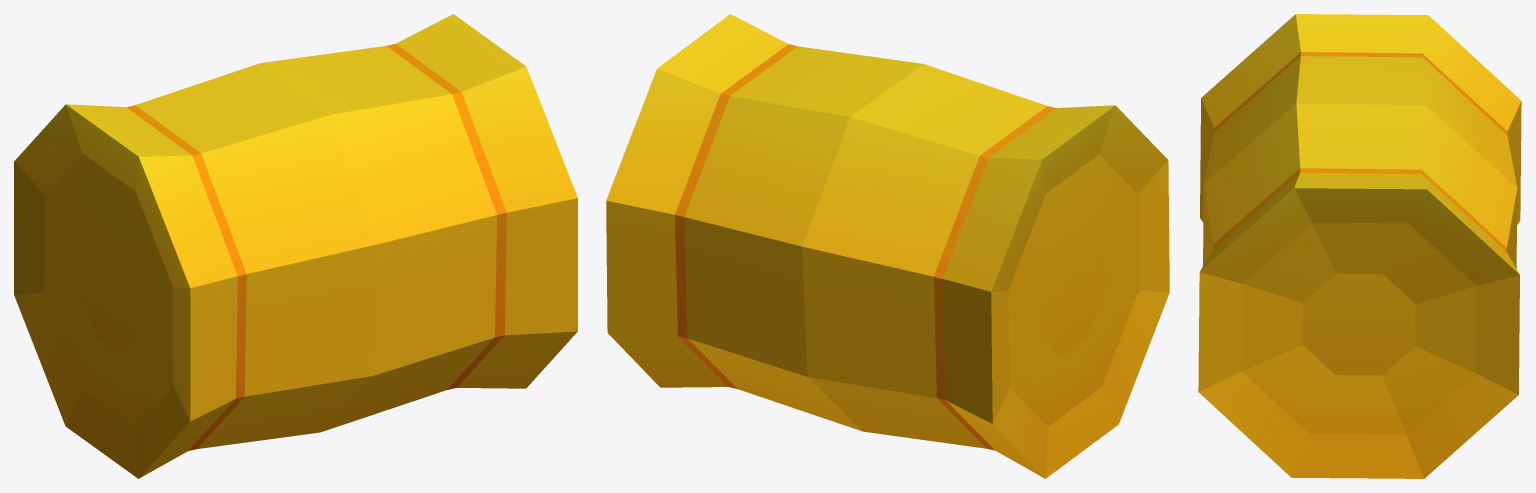
File: FBX_HayBall.fbx
3 renders of one model, left to right at view 1: azimuth 30°, elevation 25°; view 2: azimuth 150°, elevation 25°; view 3: azimuth 270°, elevation 25°, orthographic. The views are drawn at different scales.
Visible parts, largest first — view 1: M_HayBall; view 2: M_HayBall; view 3: M_HayBall.
Part boxes in pixels (box(x1,y1,x2,y2)): M_HayBall: box(14, 14, 577, 478); M_HayBall: box(606, 14, 1169, 478); M_HayBall: box(1198, 14, 1521, 478).
Size of the model in its own units: 1.12 by 0.8915 by 0.886.
